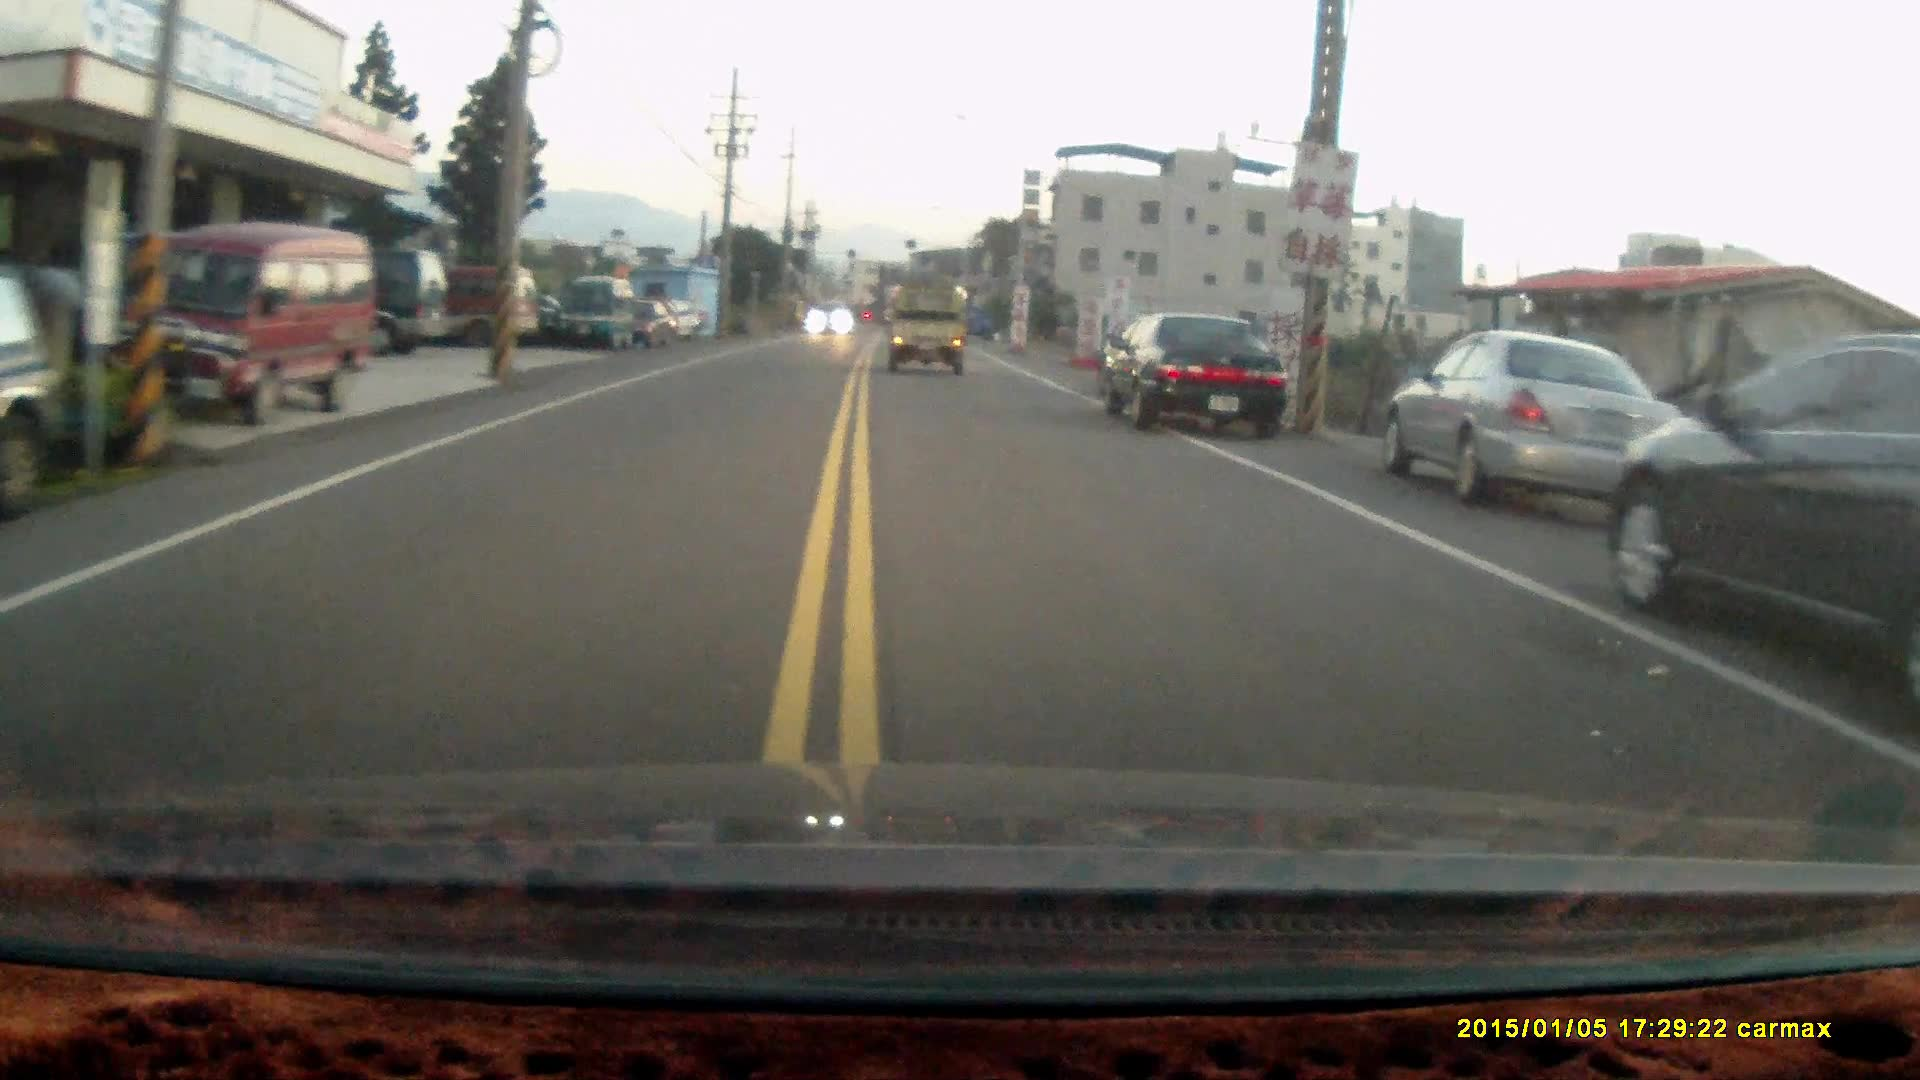vehicle: (1604, 338, 1920, 712), (1385, 334, 1689, 516), (88, 232, 368, 429), (1095, 311, 1288, 442), (248, 247, 458, 359), (1, 262, 70, 517), (375, 269, 545, 351), (884, 289, 968, 382), (558, 280, 638, 357)
